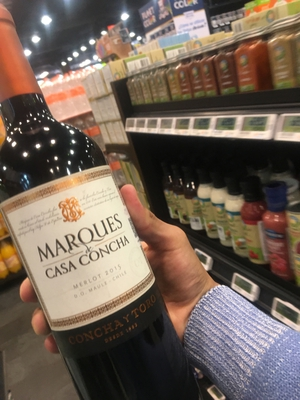marques de casa concha merlot: (2, 48, 171, 400)
